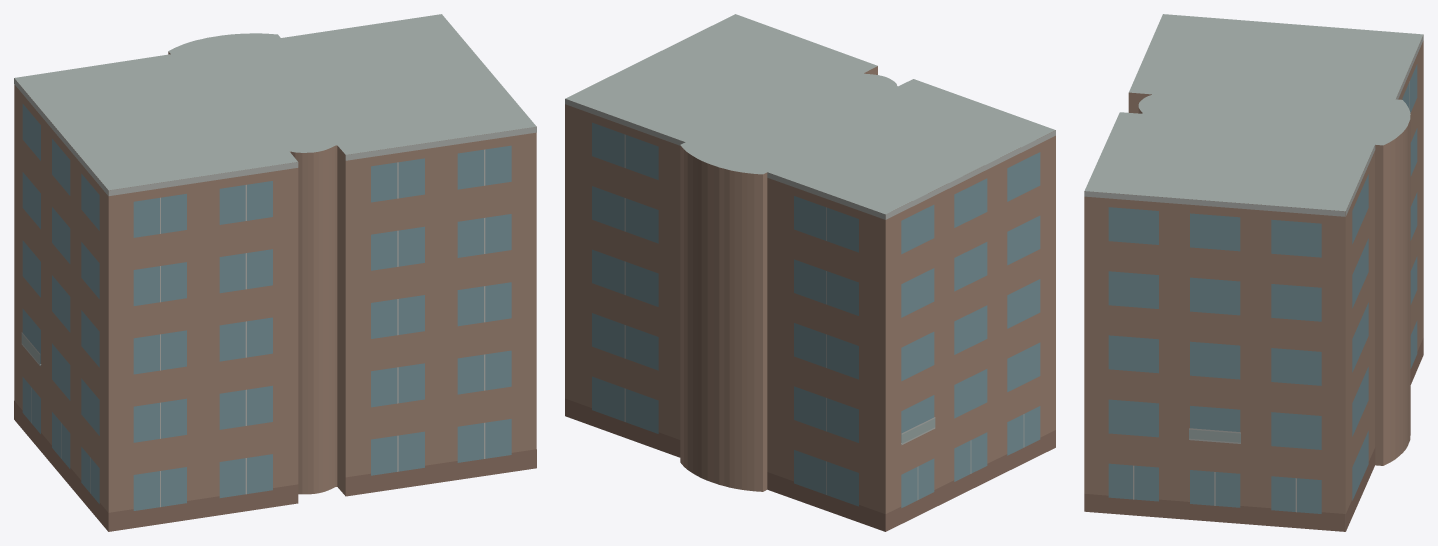
The model's file is survey-upis-32706195.glb.
3 views of the same model, side by side, from view 1: azimuth 30°, elevation 25°; view 2: azimuth 150°, elevation 25°; view 3: azimuth 270°, elevation 25° (orthographic). The views are drawn at different scales.
Parts seen in each view (by area): view 1: survey-upis-32706195.tmp; view 2: survey-upis-32706195.tmp; view 3: survey-upis-32706195.tmp.
Part boxes in pixels (bbox=[...]): survey-upis-32706195.tmp: bbox=[14, 14, 536, 531]; survey-upis-32706195.tmp: bbox=[565, 14, 1055, 531]; survey-upis-32706195.tmp: bbox=[1084, 14, 1423, 531].
Size of the model in its own units: 18.62 by 14.1 by 13.53.
